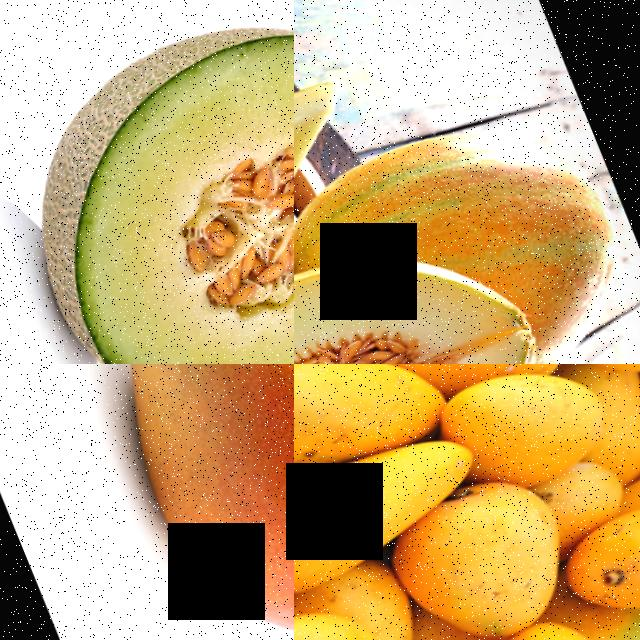mango: (70, 364, 294, 640), (294, 405, 497, 618), (417, 453, 589, 640), (294, 364, 430, 516), (553, 435, 640, 640), (464, 584, 640, 640), (294, 579, 438, 640)
melon: (0, 0, 294, 364), (294, 218, 579, 364)
